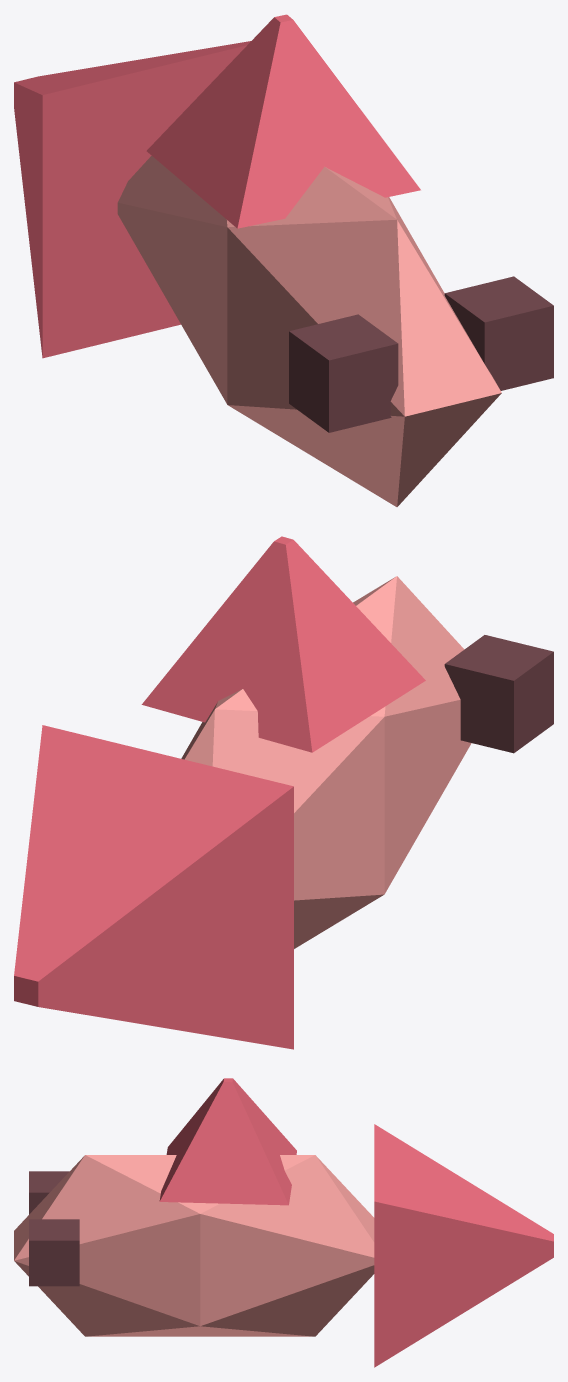
File: fish_m.glb
3 views of the same model, one above another, from view 1: azimuth 30°, elevation 25°; view 2: azimuth 150°, elevation 25°; view 3: azimuth 270°, elevation 25° (orthographic). The views are drawn at different scales.
Parts seen in each view (by area): view 1: Body, Tail, Dorsal, EyeR, EyeL; view 2: Tail, Body, Dorsal, EyeR; view 3: Body, Tail, Dorsal, EyeL, EyeR.
Part boxes in pixels (bbox=[...]): Body: bbox=[117, 155, 501, 506]; Tail: bbox=[14, 41, 250, 358]; Dorsal: bbox=[146, 14, 420, 228]; EyeR: bbox=[289, 314, 398, 432]; EyeL: bbox=[444, 276, 553, 390]; Tail: bbox=[14, 725, 293, 1049]; Body: bbox=[181, 576, 471, 948]; Dorsal: bbox=[141, 536, 425, 752]; EyeR: bbox=[444, 635, 553, 753]; Body: bbox=[14, 1155, 374, 1336]; Tail: bbox=[374, 1124, 553, 1367]; Dorsal: bbox=[159, 1078, 296, 1205]; EyeL: bbox=[29, 1219, 79, 1286]; EyeR: bbox=[29, 1171, 69, 1214].
Size of the model in its own units: 0.2942 by 0.4538 by 0.8656.
